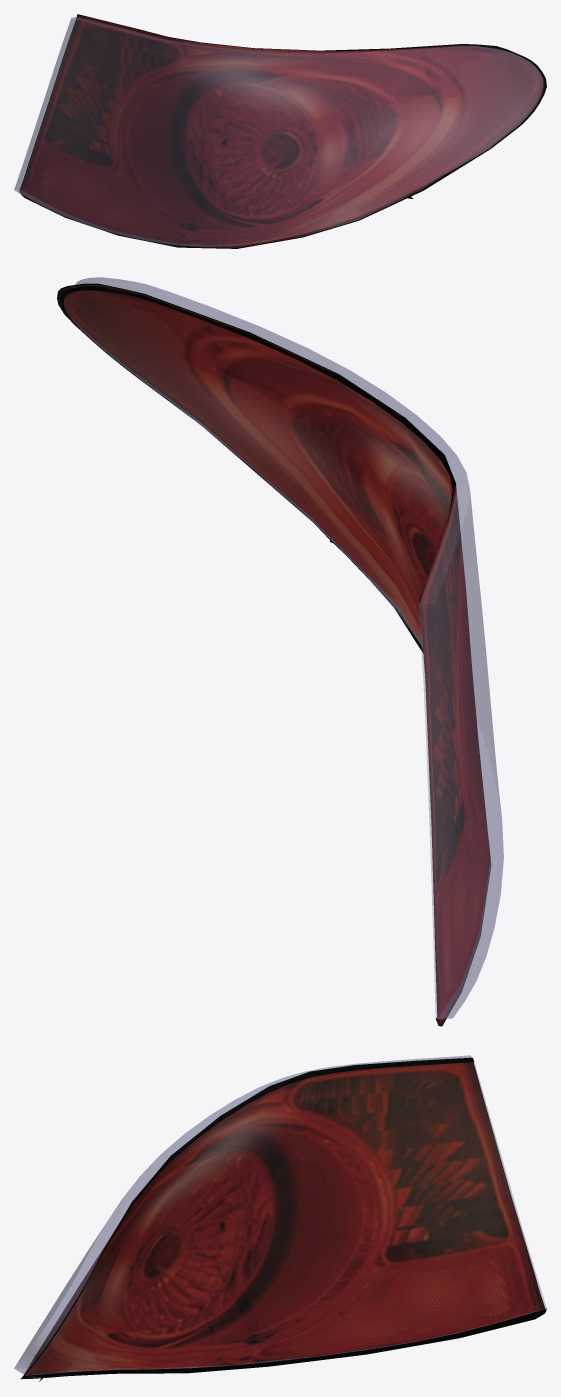
The picture shows the model from 3 angles, top to bottom: view 1: azimuth 30°, elevation 25°; view 2: azimuth 150°, elevation 25°; view 3: azimuth 270°, elevation 25°; orthographic projection. The views are drawn at different scales.
Parts seen in each view (by area): view 1: E233_541C_R_1_N_E233_541C_R, E233_541C_R_E233_541C_R_2_DTaSI, E233_541C_R_E233_541C_R_3_D; view 2: E233_541C_R_1_N_E233_541C_R, E233_541C_R_E233_541C_R_2_DTaSI, E233_541C_R_E233_541C_R_3_D; view 3: E233_541C_R_1_N_E233_541C_R, E233_541C_R_E233_541C_R_2_DTaSI, E233_541C_R_E233_541C_R_3_D.
Part boxes in pixels (x1,y1,x2,y2): E233_541C_R_1_N_E233_541C_R: [19, 14, 544, 248]; E233_541C_R_E233_541C_R_2_DTaSI: [14, 16, 542, 246]; E233_541C_R_E233_541C_R_3_D: [20, 14, 546, 248]; E233_541C_R_1_N_E233_541C_R: [58, 284, 490, 1024]; E233_541C_R_E233_541C_R_2_DTaSI: [64, 277, 503, 1018]; E233_541C_R_E233_541C_R_3_D: [57, 283, 490, 1026]; E233_541C_R_1_N_E233_541C_R: [23, 1058, 546, 1378]; E233_541C_R_E233_541C_R_2_DTaSI: [14, 1055, 546, 1375]; E233_541C_R_E233_541C_R_3_D: [21, 1057, 546, 1381].
Size of the model in its own units: 38.77 by 20.84 by 32.93.
